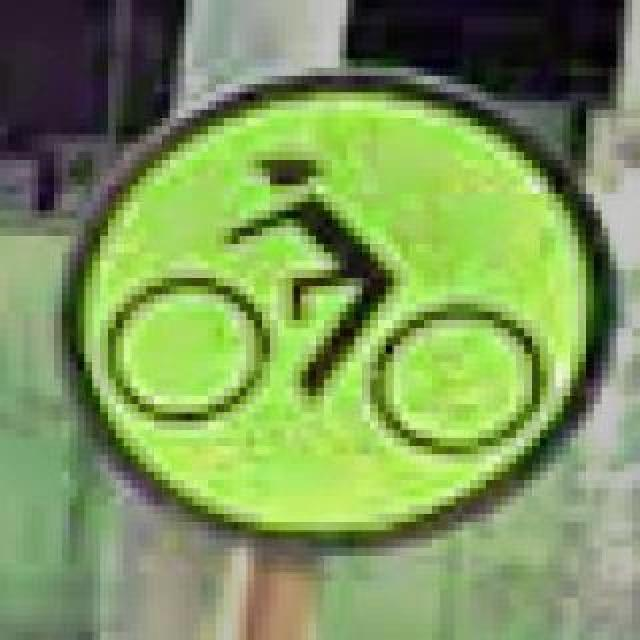bike lane: (54, 60, 610, 548)
